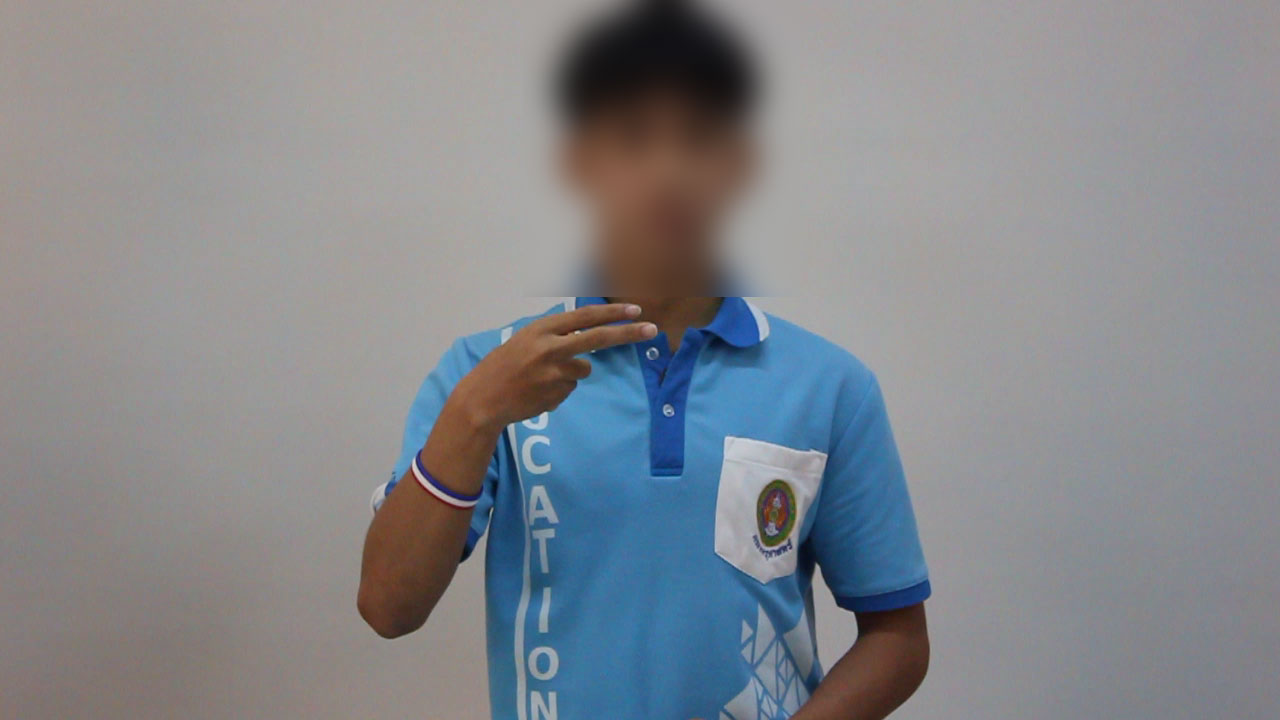hor: (429, 292, 668, 438)
